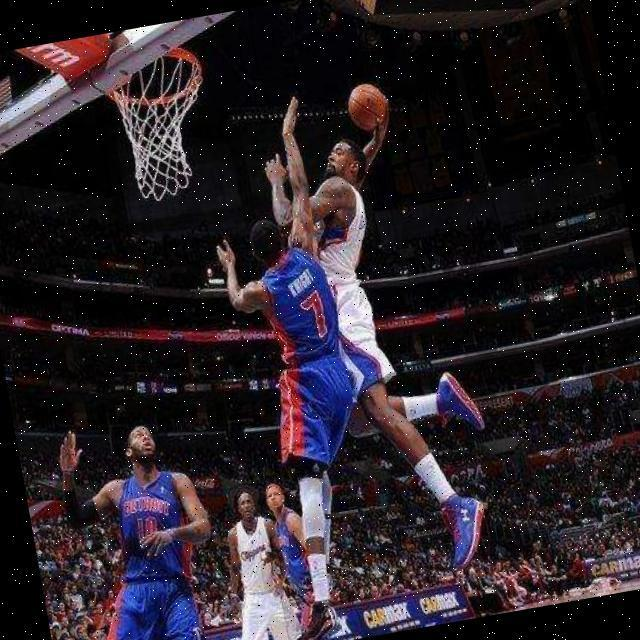ball: (344, 78, 391, 134)
